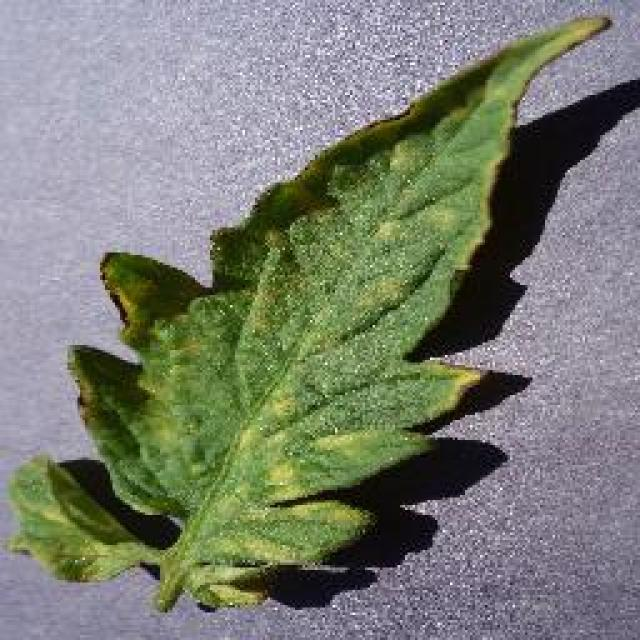Tomato mold leaf: (7, 18, 612, 612)
